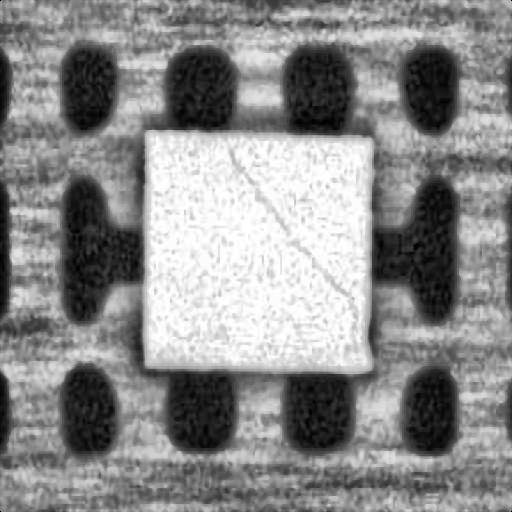DIE_CRACK: (225, 143, 353, 300)
